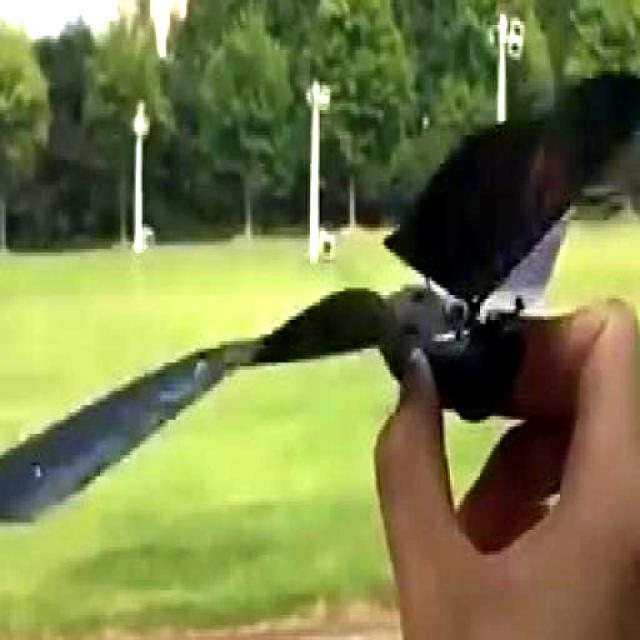airplane: (0, 92, 640, 509)
